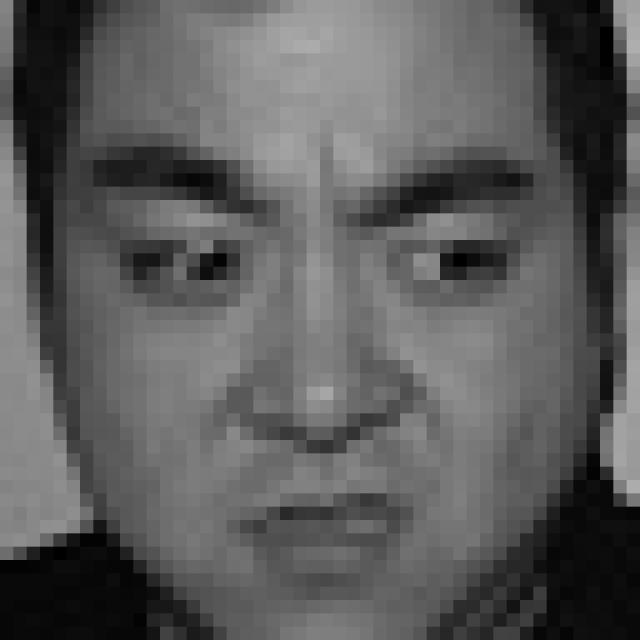disgust: (94, 143, 539, 601)
